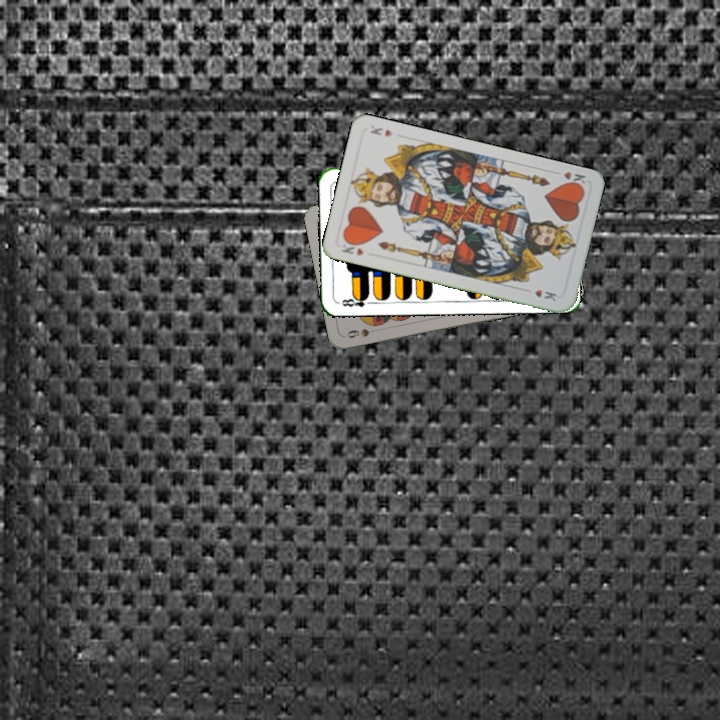E8: (338, 291, 375, 309)
HK: (549, 167, 588, 190), (338, 240, 366, 258)
S9: (342, 325, 380, 341)
